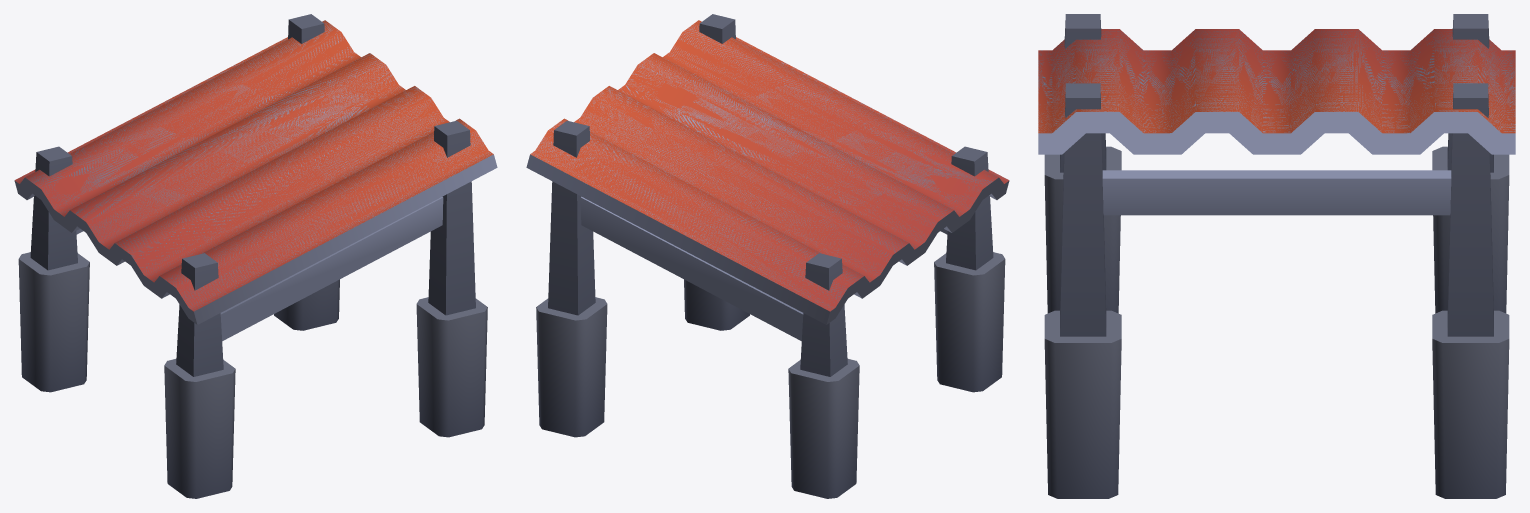
The model's file is structure-metal-roof.glb.
The picture shows the model from 3 angles, left to right: view 1: azimuth 30°, elevation 25°; view 2: azimuth 150°, elevation 25°; view 3: azimuth 270°, elevation 25°; orthographic projection. The views are drawn at different scales.
Visible parts, largest first — view 1: structure-metal-roof; view 2: structure-metal-roof; view 3: structure-metal-roof.
Part boxes in pixels (box(x1,y1,x2,y2)): structure-metal-roof: box(14, 14, 497, 498); structure-metal-roof: box(526, 14, 1009, 498); structure-metal-roof: box(1038, 14, 1515, 498).
Size of the model in its own units: 0.5442 by 0.5 by 0.55.
